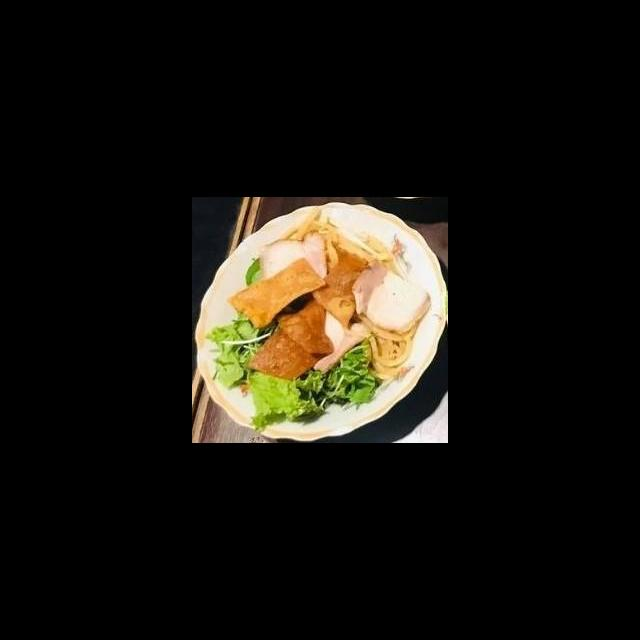banh da: (224, 254, 329, 330), (309, 239, 377, 332), (245, 323, 326, 382), (272, 295, 337, 358)
mi: (277, 206, 402, 276), (358, 311, 418, 381)
mi quang: (194, 217, 448, 443)
thit heo: (347, 259, 434, 336), (256, 227, 330, 291), (310, 305, 372, 375)
